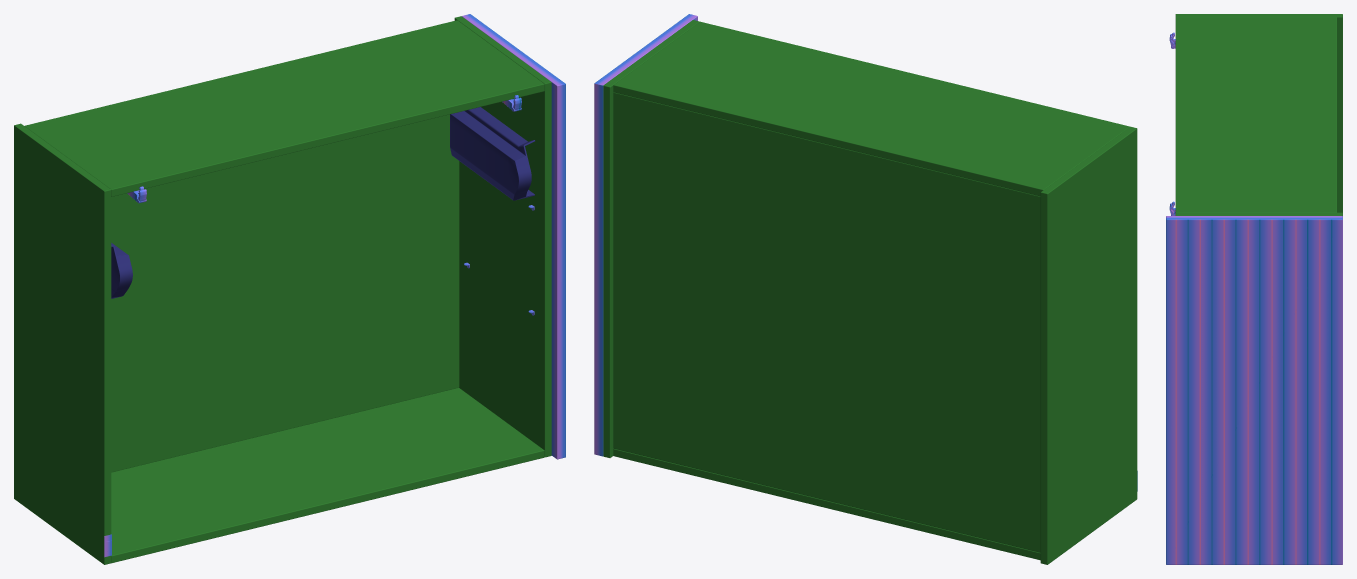
The model's file is SM_Kitchen_04_Base.fbx.
3 views of the same model, side by side, from view 1: azimuth 30°, elevation 25°; view 2: azimuth 150°, elevation 25°; view 3: azimuth 270°, elevation 25° (orthographic). The views are drawn at different scales.
Visible parts, largest first — view 1: SM_Kitchen_04_Base; view 2: SM_Kitchen_04_Base; view 3: SM_Kitchen_04_Base.
Part boxes in pixels (left/top/right/bottom): SM_Kitchen_04_Base: left=14, top=14, right=565, bottom=564; SM_Kitchen_04_Base: left=594, top=14, right=1137, bottom=564; SM_Kitchen_04_Base: left=1166, top=14, right=1342, bottom=564.
Bounding box in the file's own units: 102 × 79.8 × 37.
Materials: 4 (2 with a texture image).
